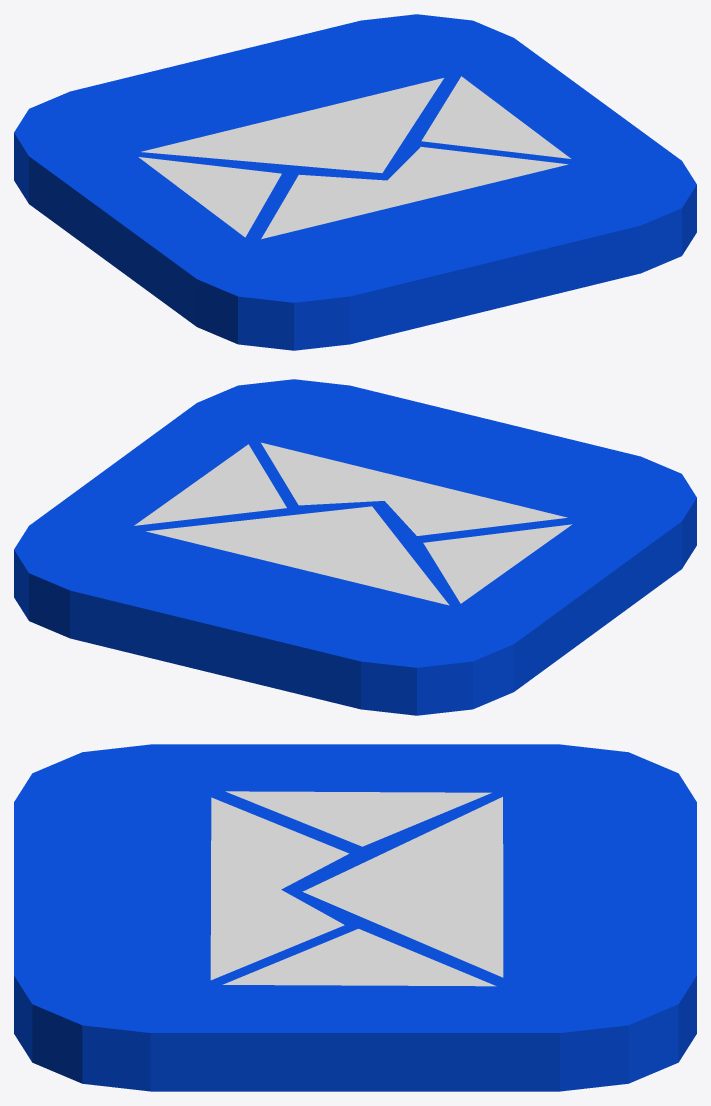
Rendered from app_mail.fbx.
3 renders of one model, top to bottom at view 1: azimuth 30°, elevation 25°; view 2: azimuth 150°, elevation 25°; view 3: azimuth 270°, elevation 25°, orthographic. The views are drawn at different scales.
Parts seen in each view (by area): view 1: Cube.005; view 2: Cube.005; view 3: Cube.005.
Part boxes in pixels (left/top/right/bottom): Cube.005: left=14, top=14, right=696, bottom=350; Cube.005: left=14, top=379, right=696, bottom=715; Cube.005: left=14, top=744, right=696, bottom=1091.
Size of the model in its own units: 1000 by 94.4 by 1000.
